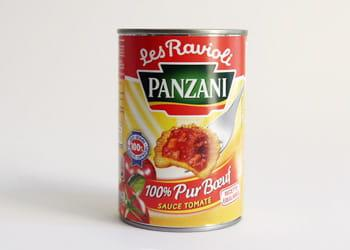metal: (118, 28, 248, 230)
